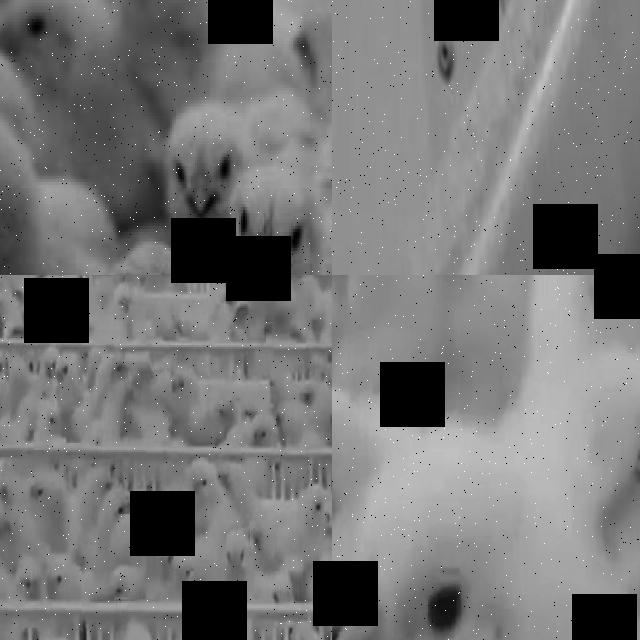chicks: (332, 419, 492, 640), (0, 0, 104, 119), (567, 376, 640, 541), (161, 120, 243, 230), (230, 182, 326, 275), (0, 126, 43, 269), (109, 0, 216, 49), (276, 9, 332, 85), (29, 473, 66, 527), (226, 532, 251, 584), (16, 560, 44, 604), (46, 562, 75, 598), (107, 570, 137, 602), (156, 491, 184, 525), (193, 472, 216, 510), (58, 356, 81, 394), (110, 488, 135, 522), (262, 579, 293, 605), (176, 554, 198, 588), (305, 492, 325, 526), (316, 560, 332, 599), (254, 421, 276, 448), (248, 522, 265, 553), (143, 514, 164, 538), (0, 480, 17, 507), (118, 631, 164, 640), (0, 516, 14, 544), (165, 535, 177, 567), (85, 485, 97, 515), (329, 517, 332, 554)
